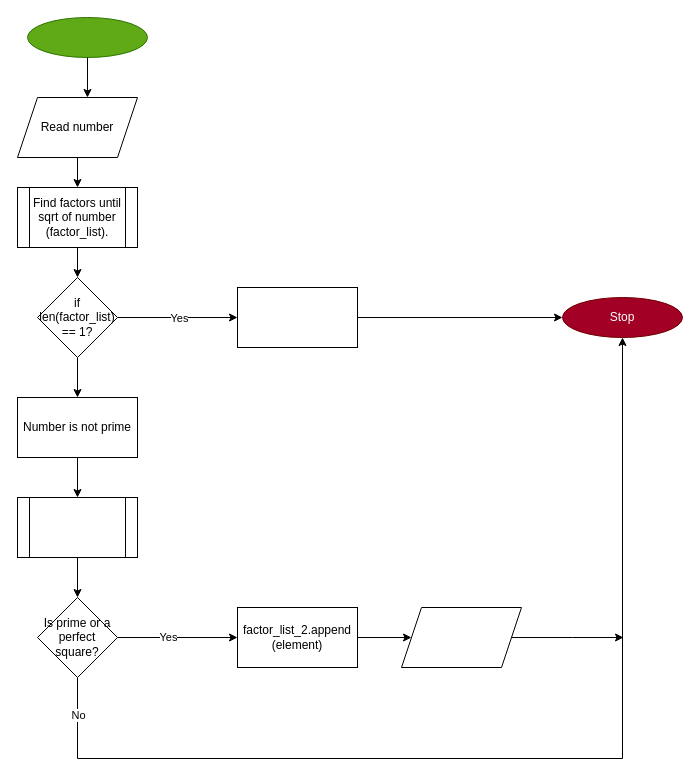
Some shapes in this 700 by 784 pixel diagram are drawn without their labels. The shapes that lost their labels are listed below. From the top down, each one's box as (x1, y1, x2, y2) in pixels, then its label:
(26, 16, 148, 58): Start
(236, 286, 358, 348): Number is prime
(16, 496, 138, 558): Find factors in factor_list that are prime or a perfect square
(400, 606, 522, 668): Print factor_list_2
